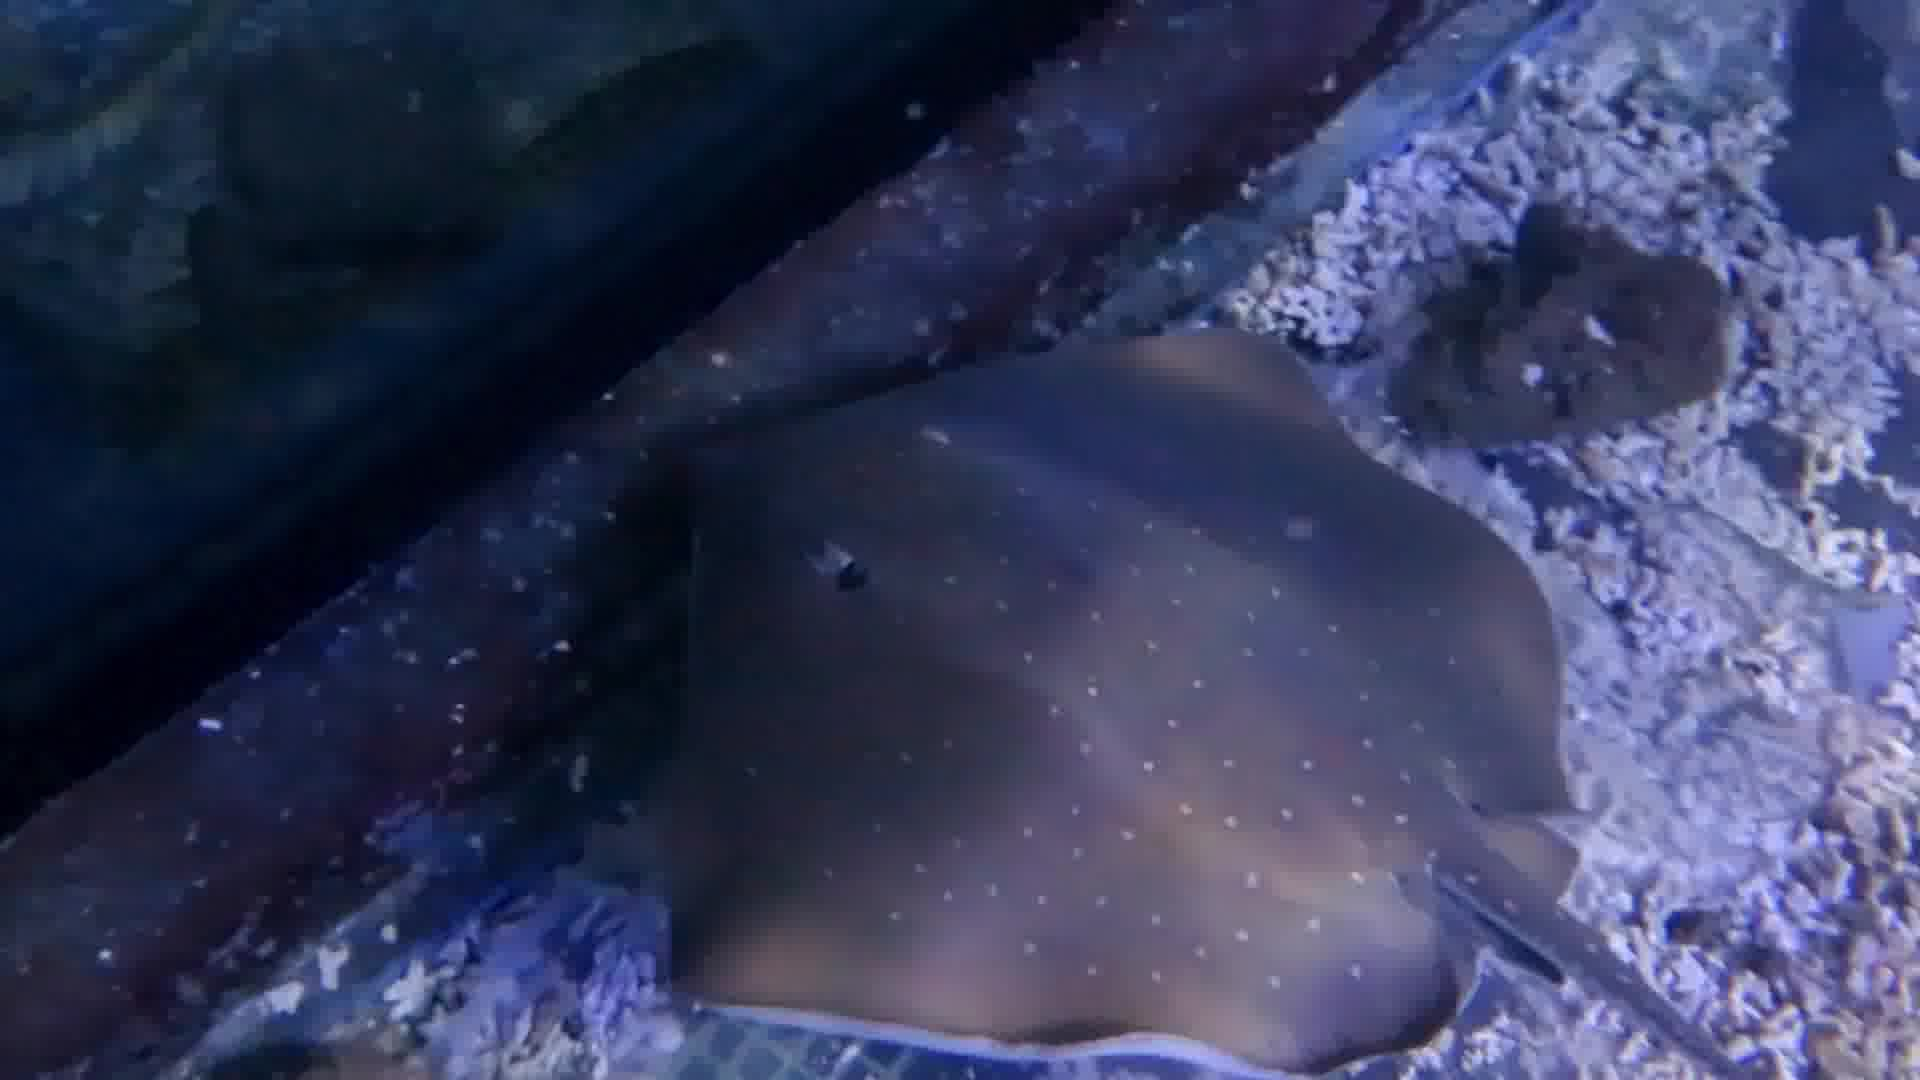Himantura gerrardi: (538, 320, 1654, 1080)
